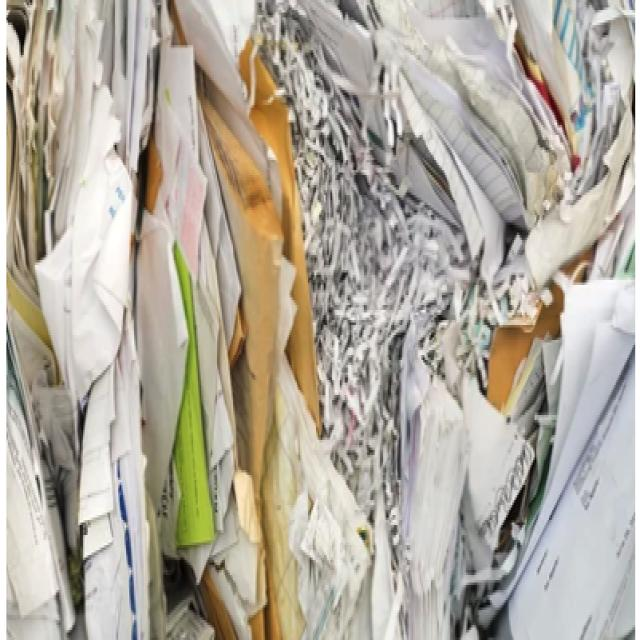KertasBekas: (4, 0, 634, 638)
